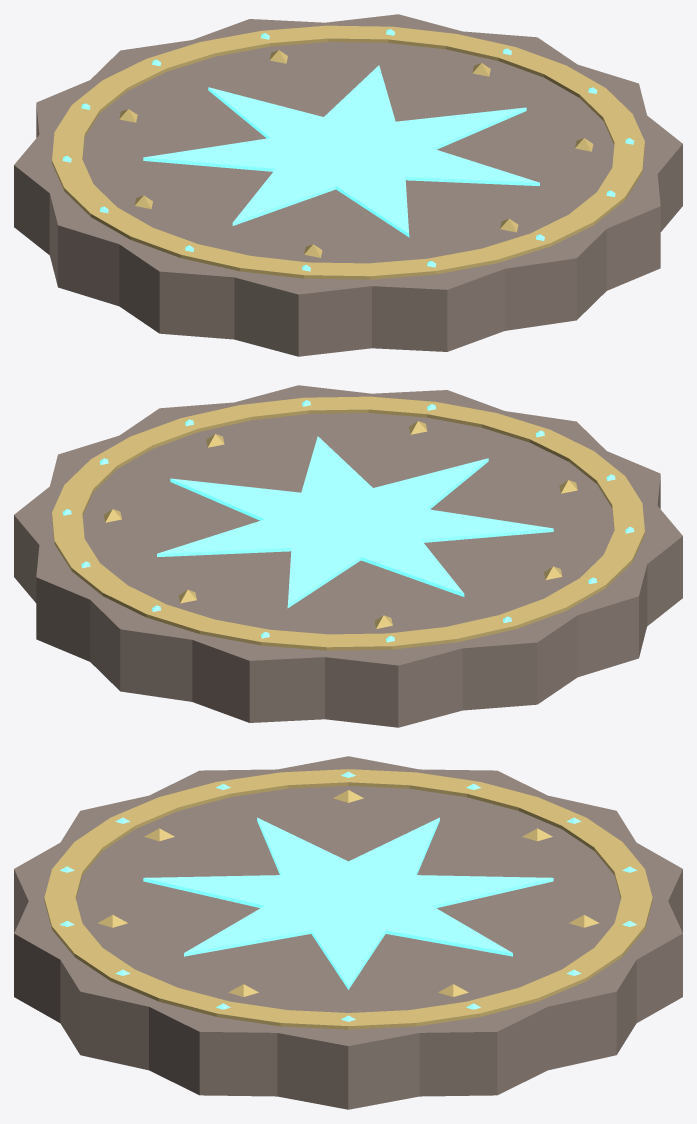
File: mystic_token.glb
3 renders of one model, top to bottom at view 1: azimuth 30°, elevation 25°; view 2: azimuth 150°, elevation 25°; view 3: azimuth 270°, elevation 25°, orthographic. The views are drawn at different scales.
Visible parts, largest first — view 1: Medallion, Ring, Star7; view 2: Medallion, Ring, Star7; view 3: Medallion, Ring, Star7.
Boxes of the visible parts, bbox=[...] form: Medallion: bbox=[14, 14, 682, 356]; Ring: bbox=[52, 25, 644, 279]; Star7: bbox=[143, 65, 539, 237]; Medallion: bbox=[14, 385, 682, 727]; Ring: bbox=[52, 396, 644, 650]; Star7: bbox=[157, 436, 553, 608]; Medallion: bbox=[14, 756, 682, 1109]; Ring: bbox=[44, 769, 652, 1029]; Star7: bbox=[143, 817, 553, 989].
Size of the model in its own units: 4.4 by 0.54 by 4.29.
